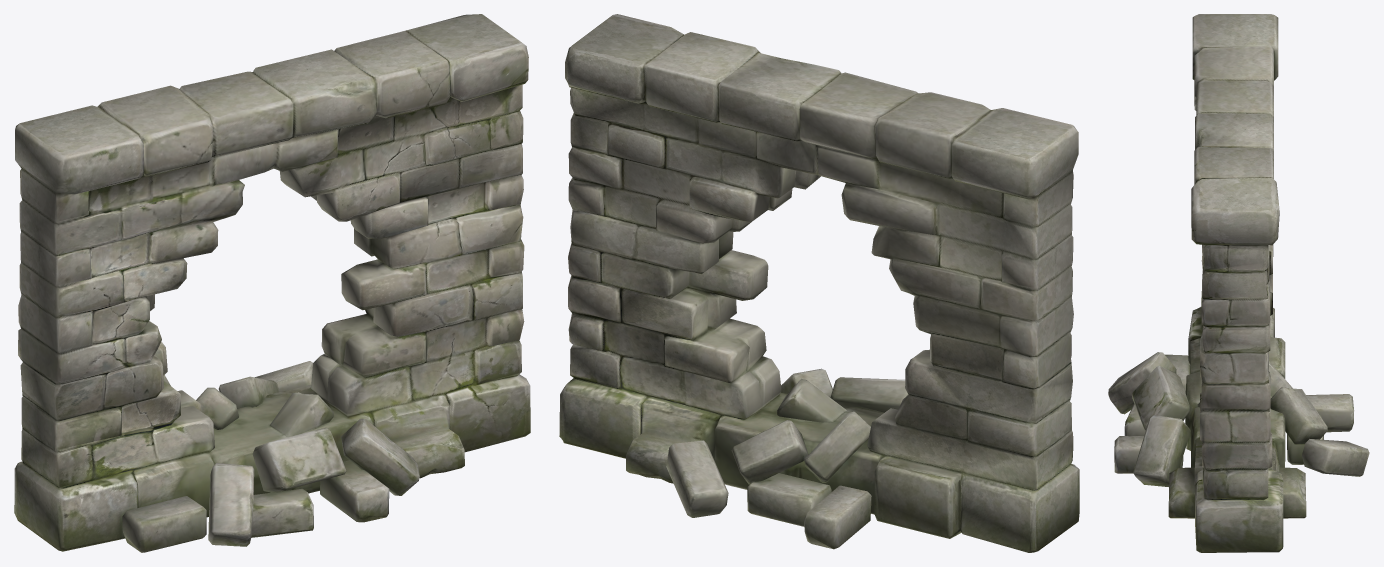
File: wall_breach.glb
The picture shows the model from 3 angles, left to right: view 1: azimuth 30°, elevation 25°; view 2: azimuth 150°, elevation 25°; view 3: azimuth 270°, elevation 25°; orthographic projection. The views are drawn at different scales.
Parts seen in each view (by area): view 1: wall_breach; view 2: wall_breach; view 3: wall_breach.
Boxes of the visible parts, <box> form: wall_breach: <box>14,14,530,552</box>; wall_breach: <box>559,14,1079,552</box>; wall_breach: <box>1108,14,1369,552</box>.
Bounding box in the file's own units: 0.9995 × 0.8091 × 0.5532.
1 material, 1 textured.
